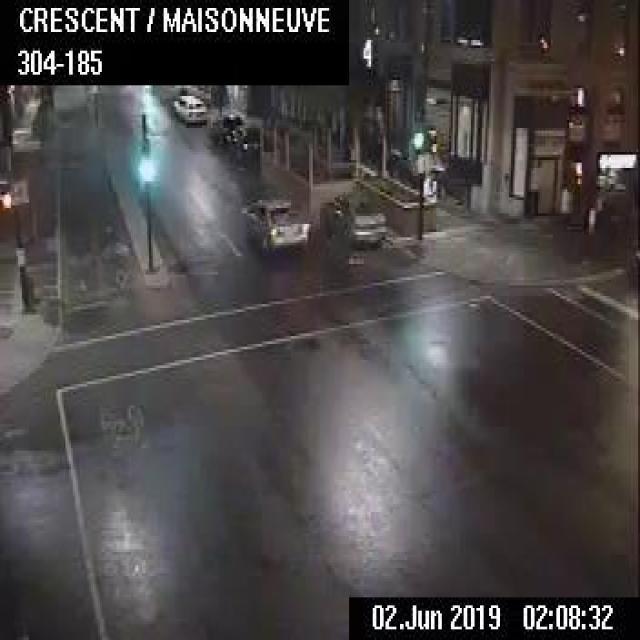vehicle: (239, 192, 309, 253), (322, 187, 388, 245), (172, 90, 206, 124), (213, 111, 245, 145)
